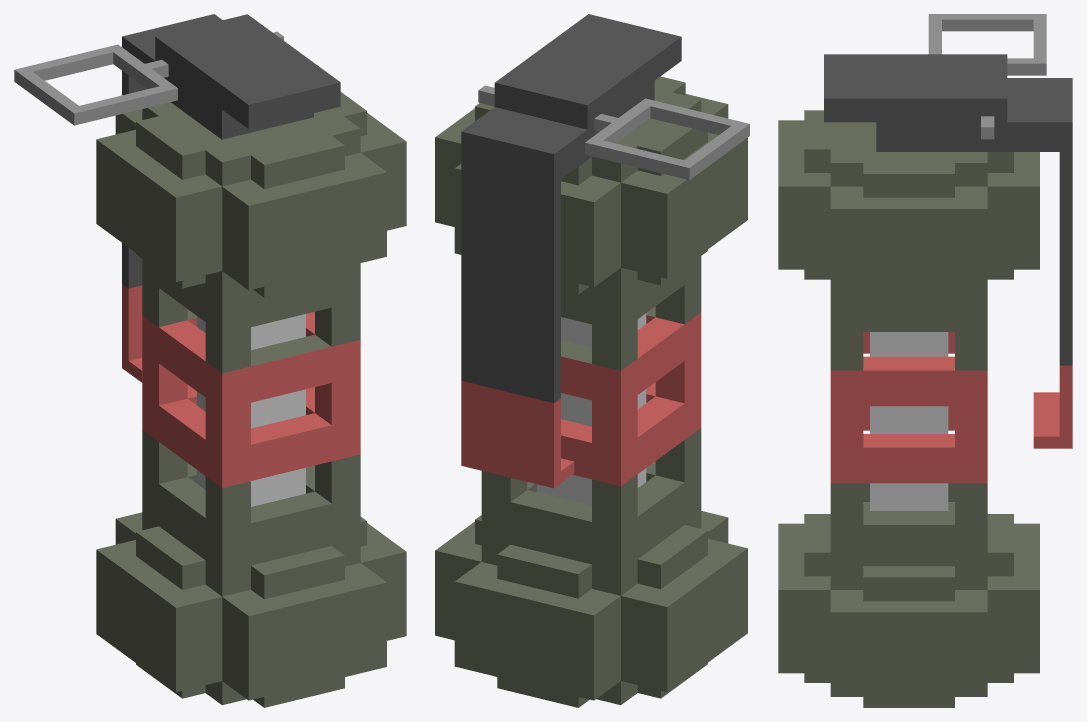
The model's file is flashGranade.fbx.
3 renders of one model, left to right at view 1: azimuth 30°, elevation 25°; view 2: azimuth 150°, elevation 25°; view 3: azimuth 270°, elevation 25°, orthographic. The views are drawn at different scales.
Visible parts, largest first — view 1: flashGranade_base, flashGranade_fuse, flashGranade_pin; view 2: flashGranade_base, flashGranade_fuse, flashGranade_pin; view 3: flashGranade_base, flashGranade_fuse, flashGranade_pin.
Part boxes in pixels (x1=…): flashGranade_base: x1=96, y1=92, x2=406, y2=707; flashGranade_fuse: x1=122, y1=14, x2=340, y2=382; flashGranade_pin: x1=14, y1=31, x2=283, y2=125; flashGranade_base: x1=435, y1=76, x2=747, y2=707; flashGranade_fuse: x1=461, y1=14, x2=681, y2=488; flashGranade_pin: x1=478, y1=85, x2=749, y2=179; flashGranade_base: x1=778, y1=110, x2=1039, y2=707; flashGranade_fuse: x1=824, y1=54, x2=1072, y2=448; flashGranade_pin: x1=928, y1=14, x2=1046, y2=139.
Bounding box in the file's own units: 98 × 198 × 90.
